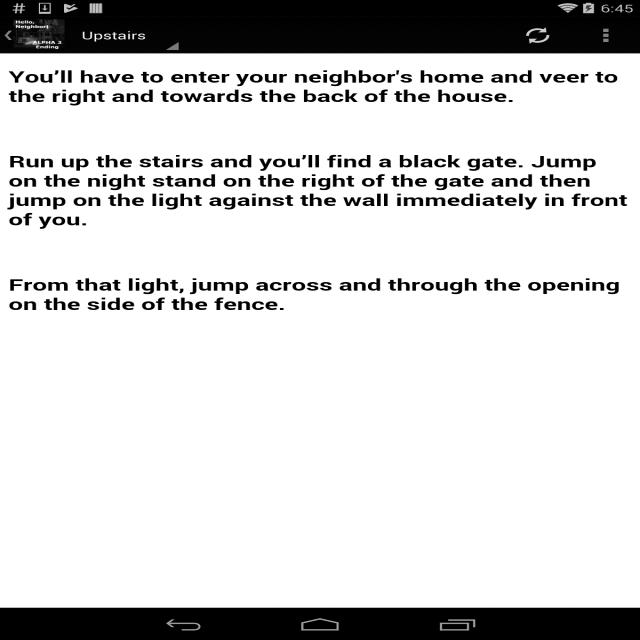ImageButton: (517, 25, 560, 46), (590, 23, 621, 47)
ImageView: (14, 19, 67, 51)
TextView: (5, 152, 628, 229), (2, 64, 626, 105), (2, 273, 623, 314), (77, 27, 154, 43)
